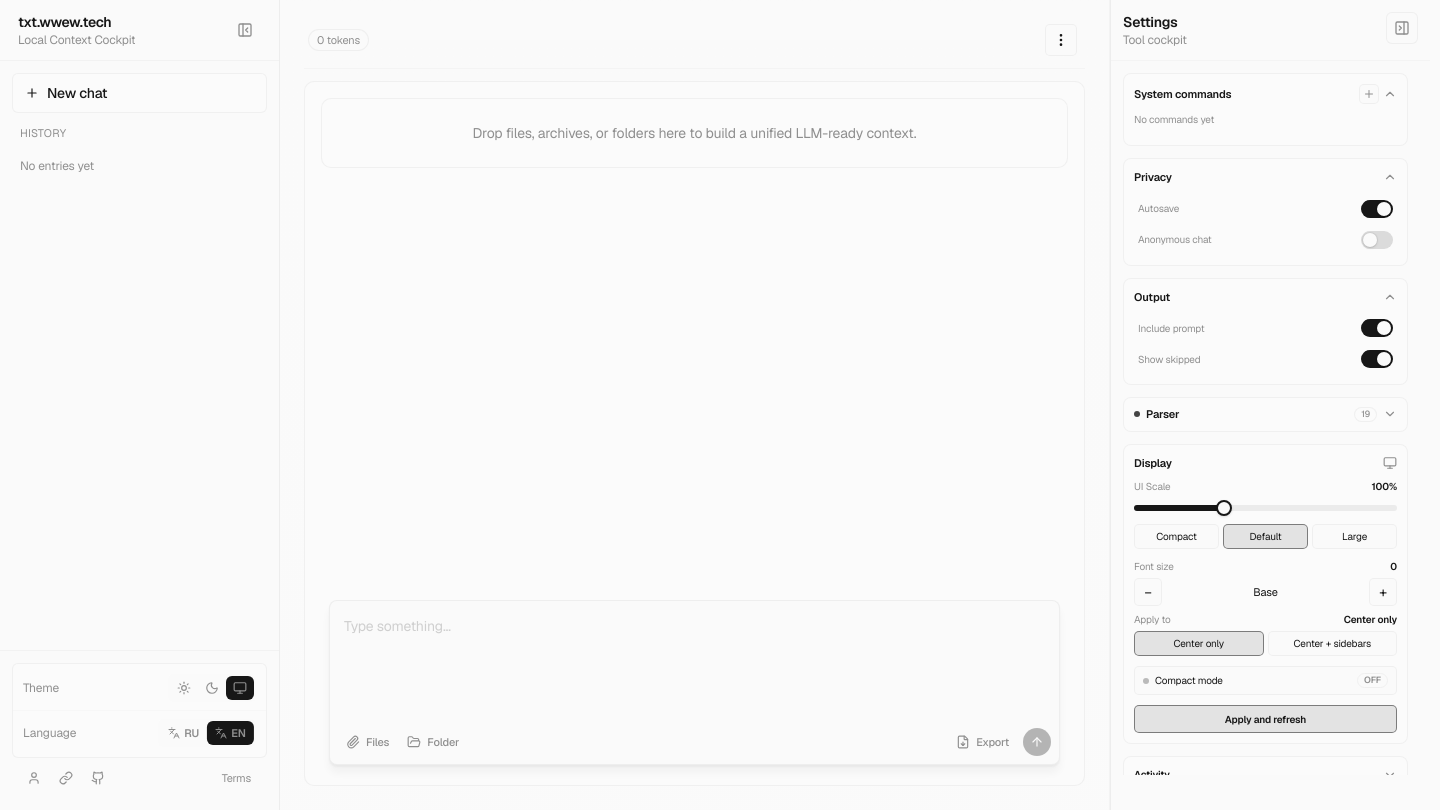
Display section › Large preset sets scale to 115%
Click the button "Large". click: click(1354, 536)
box: [1312,524,1397,549]
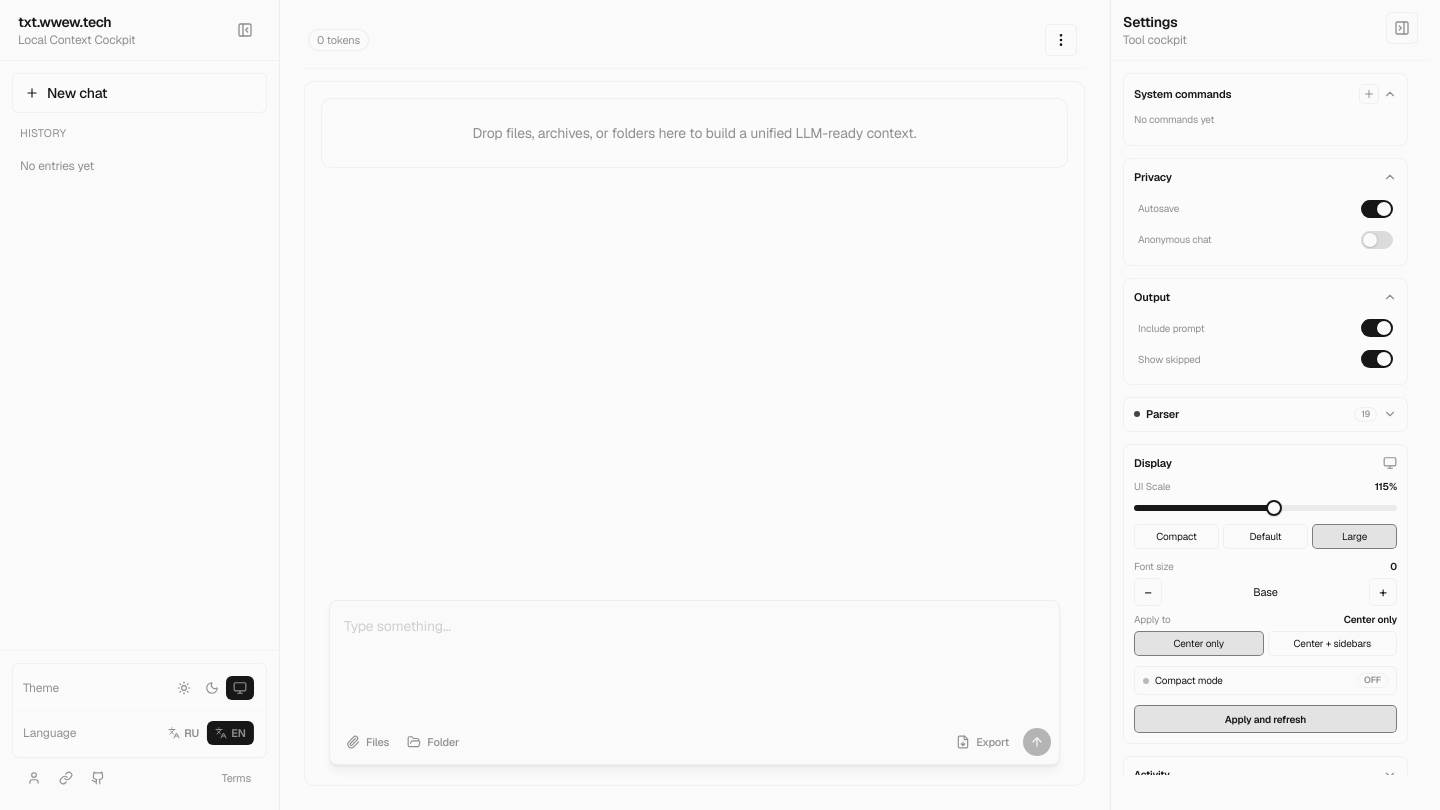
Result: the text "115%" is shown at [1375,479,1397,494]
